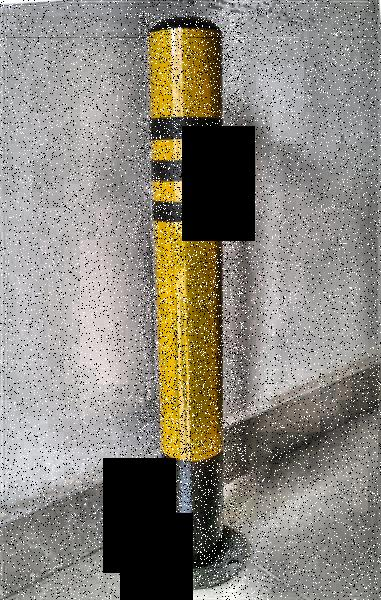bench: (138, 13, 247, 587)
